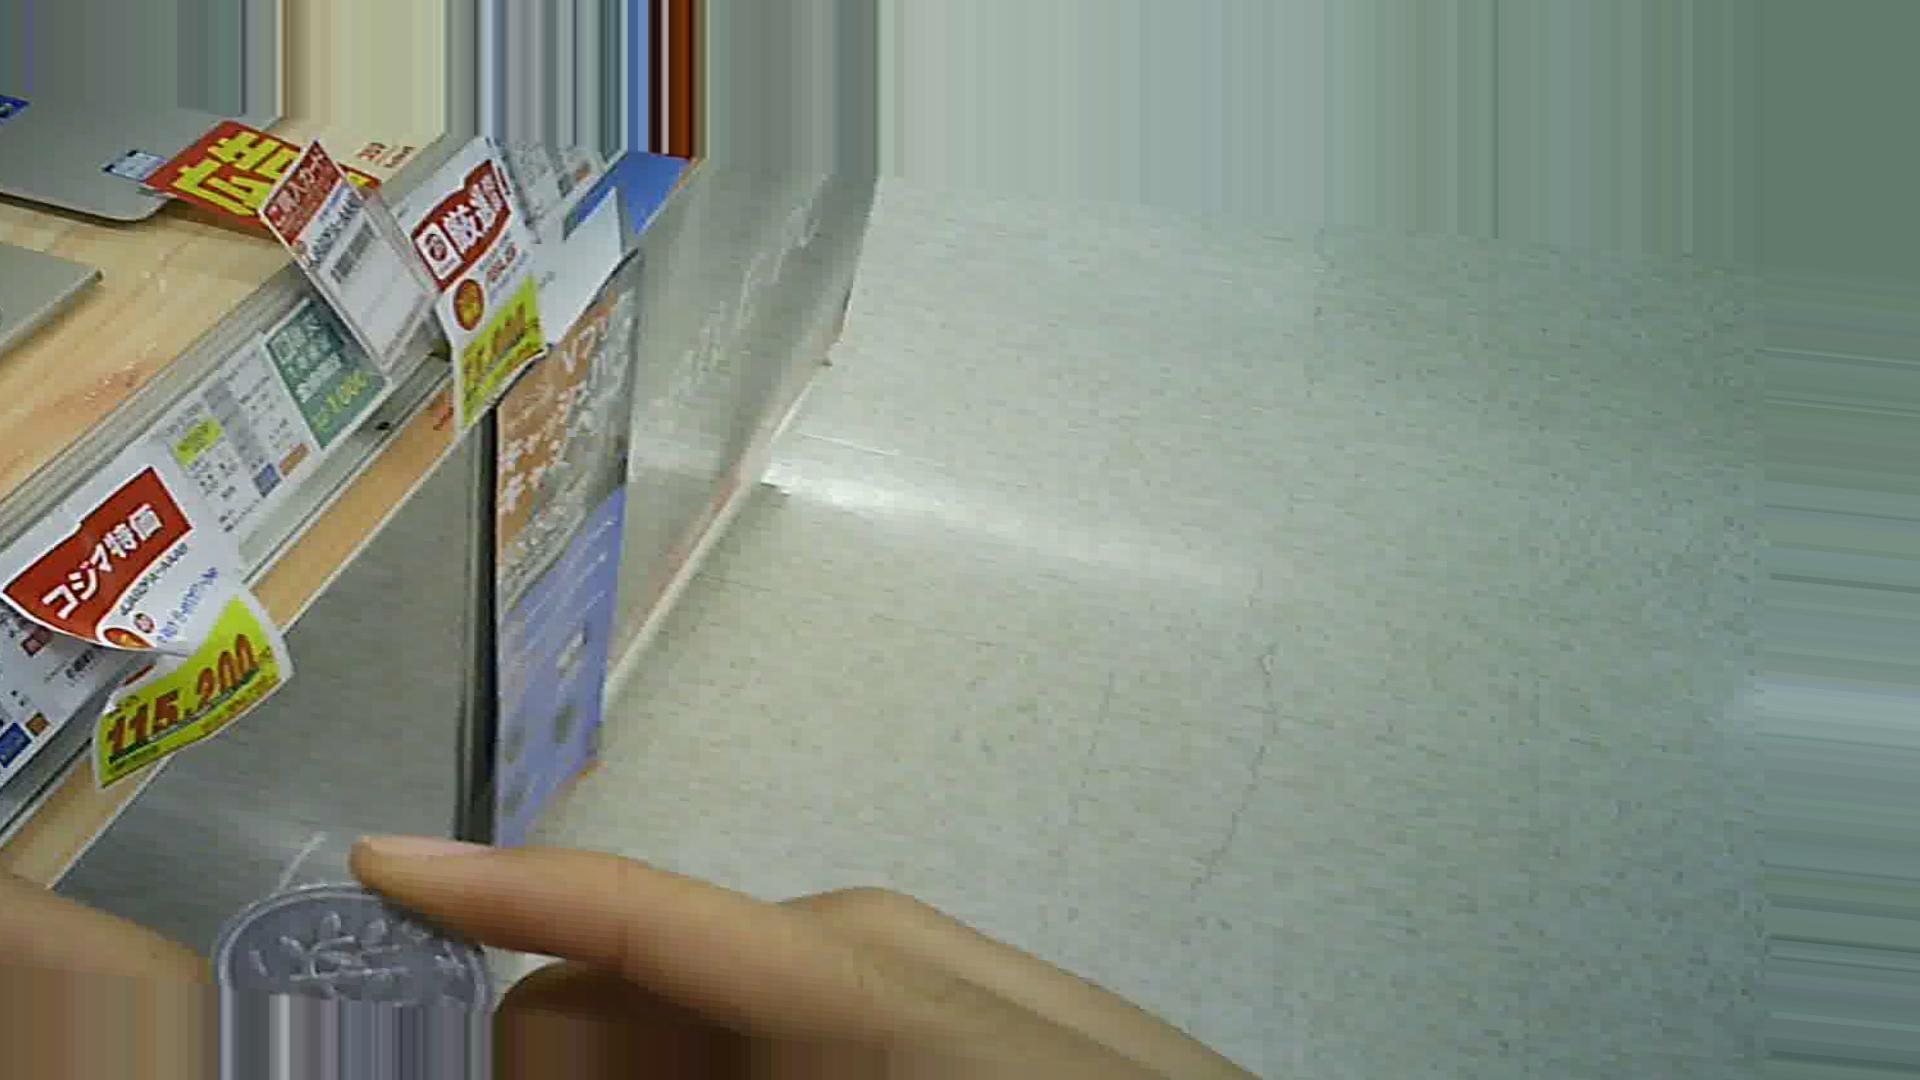1 Yen: (198, 860, 497, 1029)
